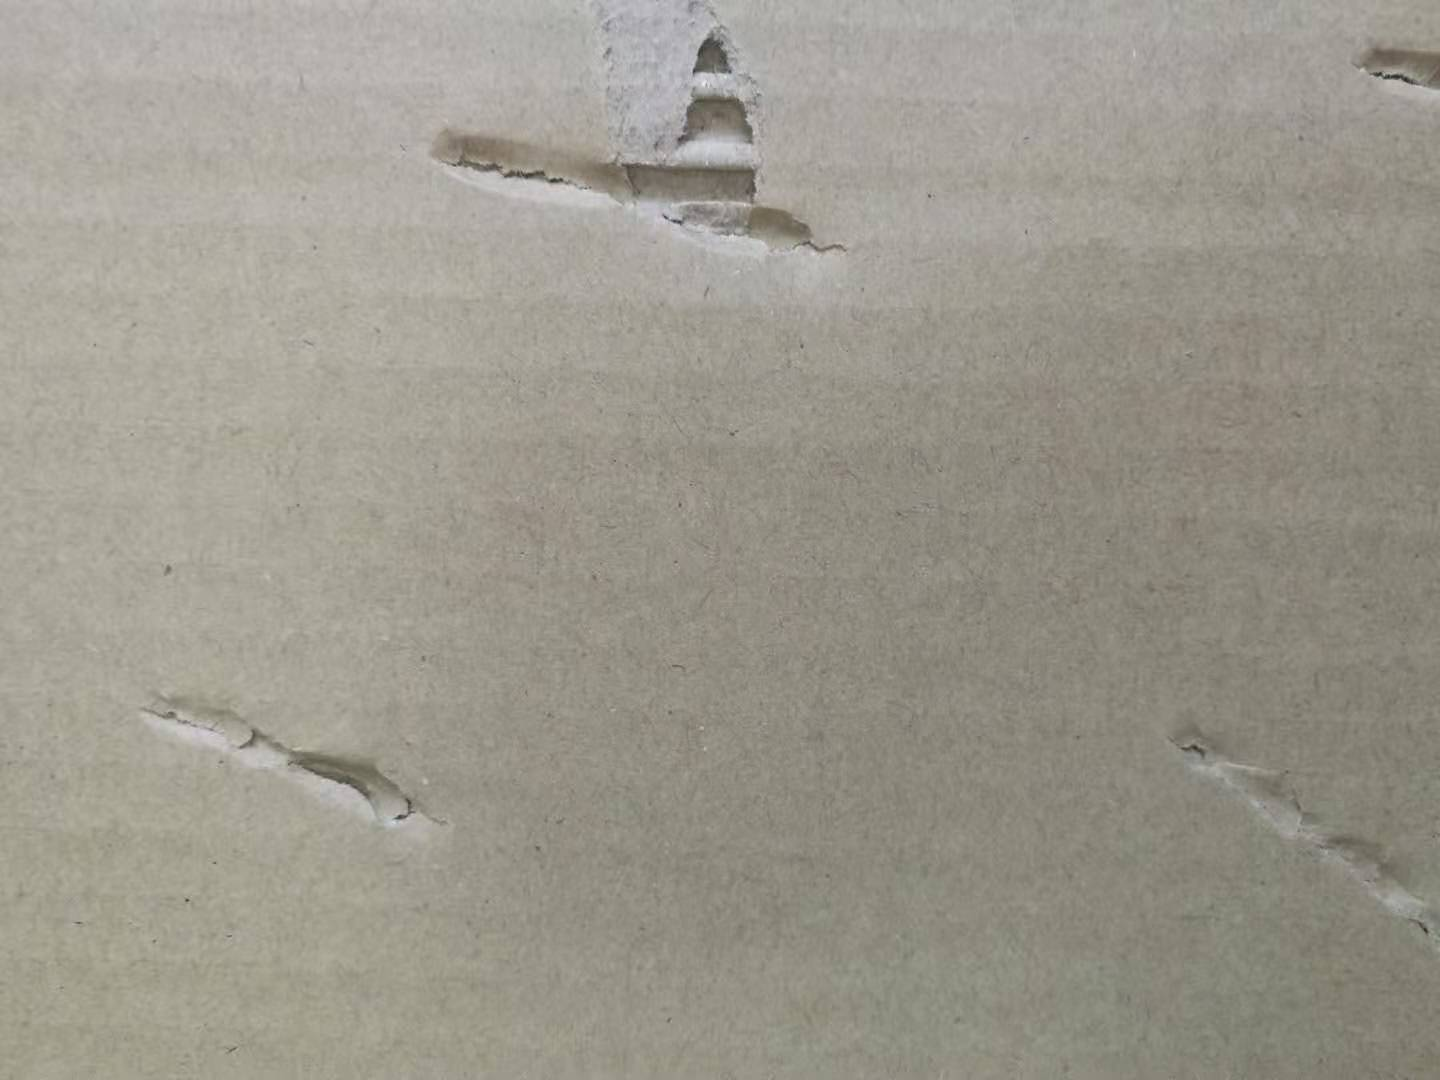defect: (410, 2, 890, 282), (1141, 685, 1440, 992), (109, 651, 466, 867), (1339, 11, 1440, 123)
